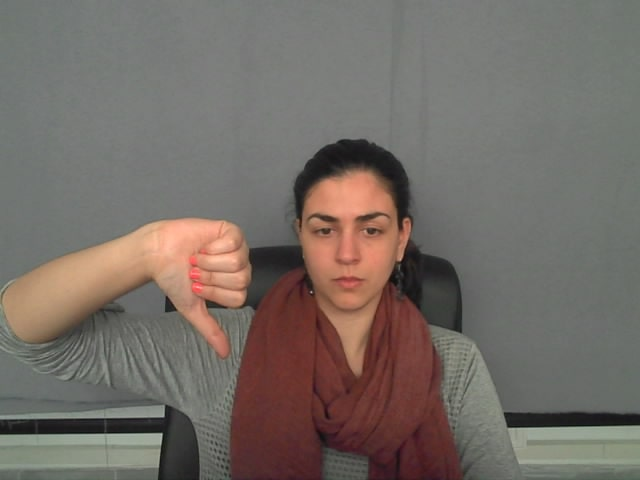down: (115, 209, 273, 374)
